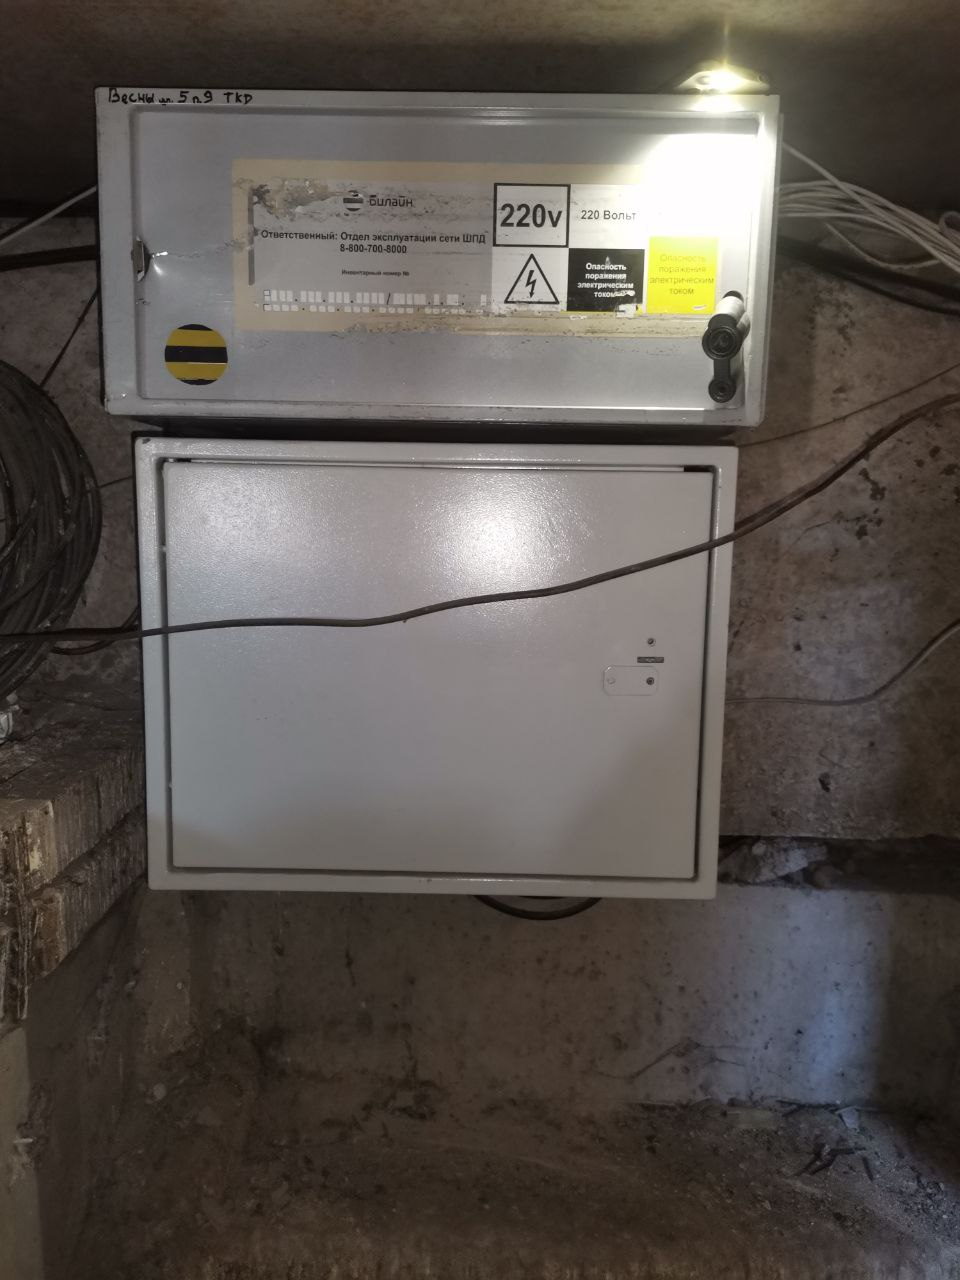sv-5: (85, 76, 787, 430)
